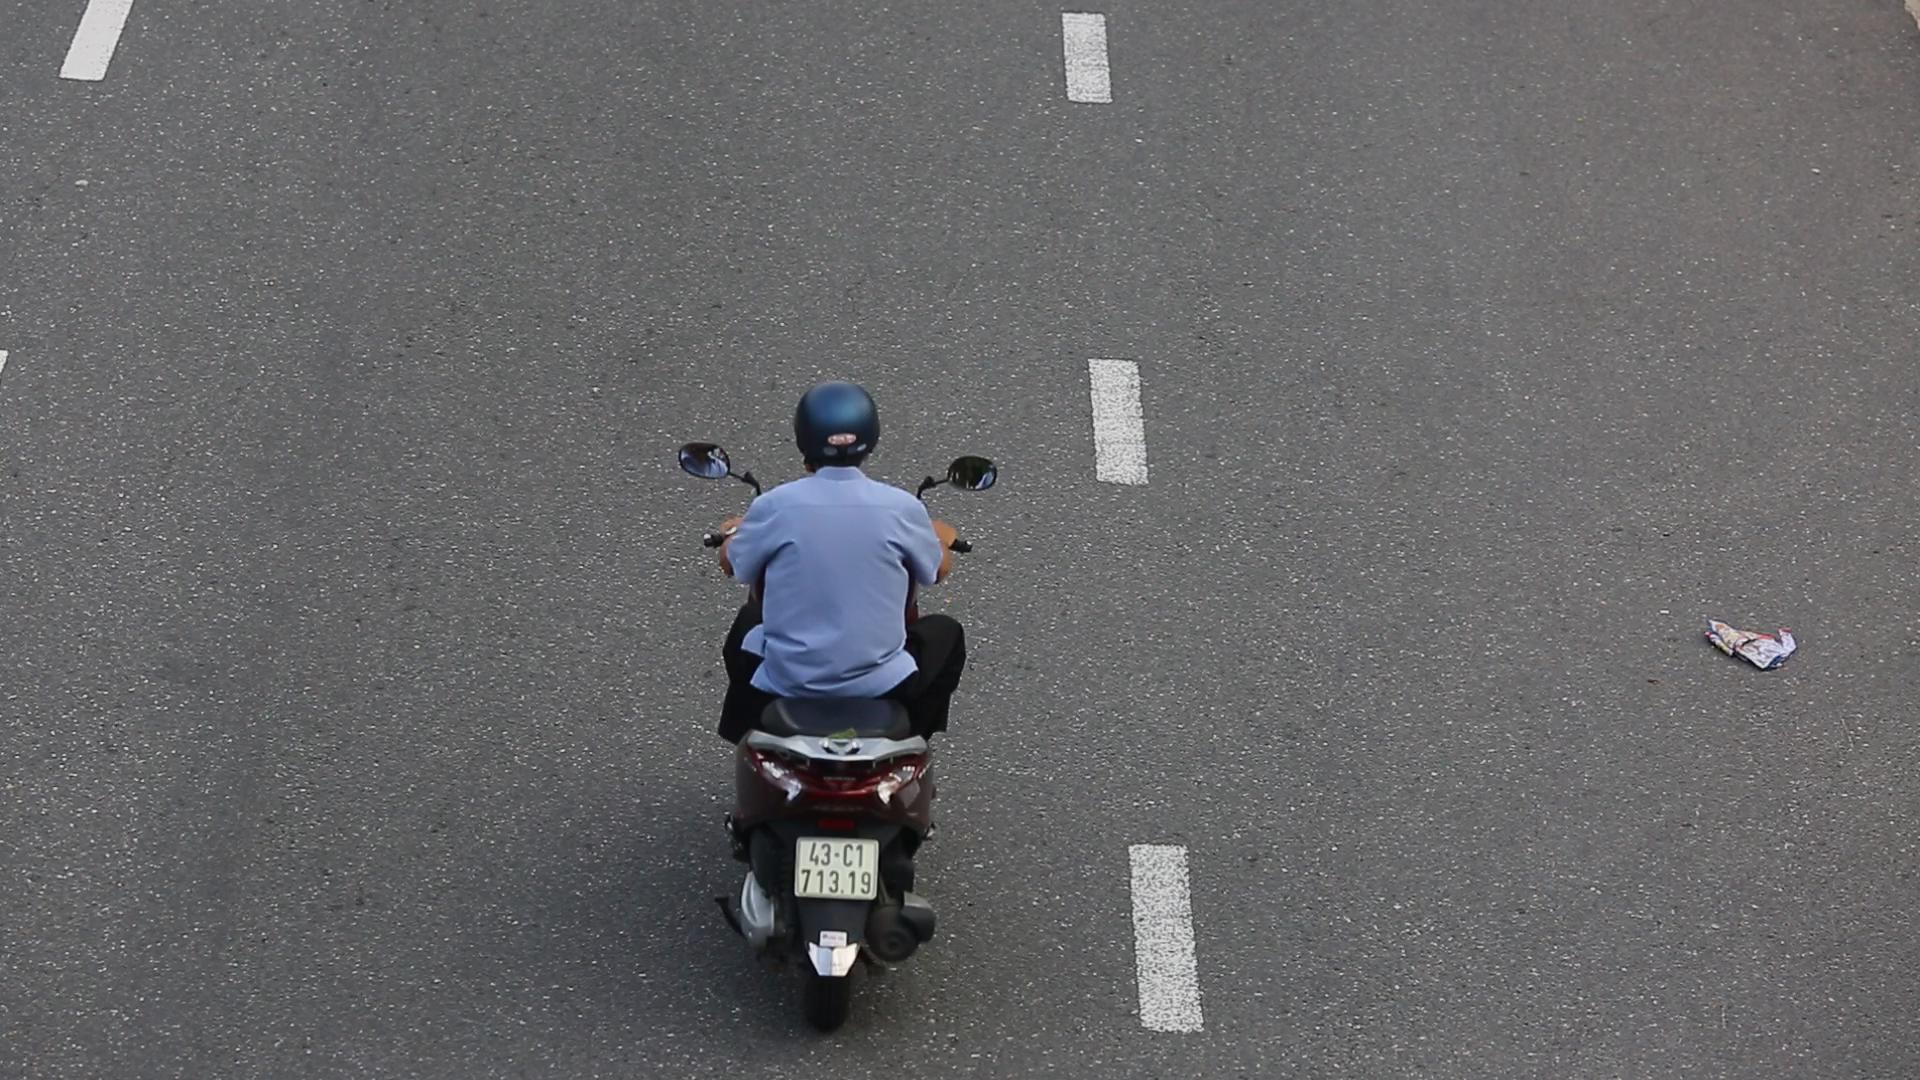motobike: (680, 371, 1002, 1051)
